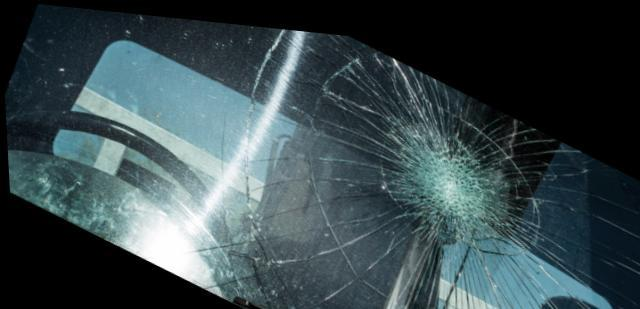glass shatter: (4, 3, 640, 309)
